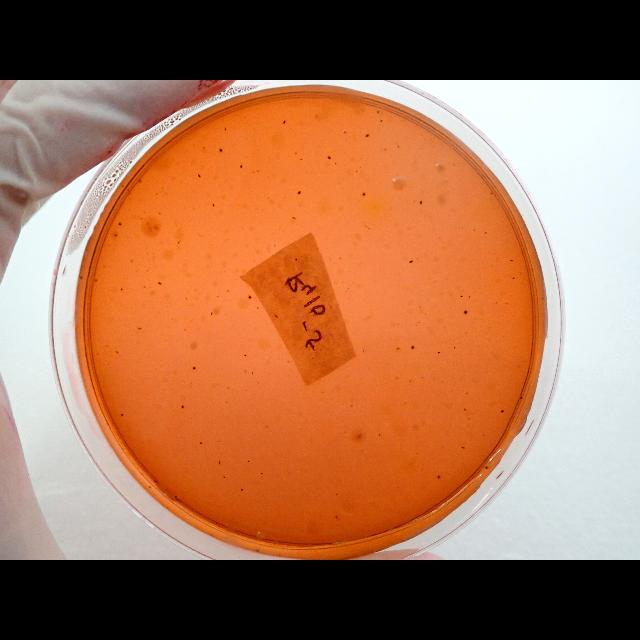colony: (180, 404, 186, 410), (436, 474, 442, 480), (410, 344, 416, 350), (395, 346, 401, 352), (296, 190, 302, 196), (218, 459, 222, 465), (485, 464, 489, 470), (500, 408, 504, 414), (463, 310, 469, 314), (365, 132, 369, 138), (158, 280, 162, 286), (419, 199, 423, 205), (408, 259, 414, 263), (295, 150, 299, 156), (78, 276, 84, 280), (240, 164, 243, 170), (199, 441, 203, 445), (240, 488, 244, 492), (260, 472, 264, 476), (334, 515, 338, 519), (461, 446, 465, 450), (519, 396, 523, 400), (512, 276, 516, 280), (282, 120, 286, 124), (219, 148, 223, 152), (118, 222, 122, 226), (114, 233, 118, 237), (248, 295, 252, 299), (274, 314, 278, 318), (294, 257, 298, 261), (292, 216, 296, 220), (327, 156, 331, 160), (343, 130, 347, 134), (362, 192, 366, 196), (115, 350, 119, 354), (504, 301, 508, 305), (494, 301, 498, 305), (354, 169, 358, 173), (130, 259, 134, 263), (212, 203, 215, 207), (210, 312, 213, 316), (491, 192, 494, 196), (491, 264, 494, 268), (192, 366, 195, 369), (336, 492, 338, 496), (464, 407, 466, 411), (468, 417, 470, 421), (438, 351, 440, 355), (454, 345, 456, 349), (425, 312, 427, 316), (510, 260, 514, 262), (484, 232, 488, 234), (379, 120, 383, 122), (377, 110, 379, 114), (198, 174, 200, 178), (120, 288, 124, 290), (185, 296, 187, 300), (378, 433, 382, 435), (148, 486, 152, 488), (120, 414, 124, 416), (465, 331, 467, 335), (334, 162, 336, 166), (300, 157, 302, 161), (364, 226, 368, 228), (138, 328, 142, 330), (178, 240, 180, 244), (158, 211, 160, 215), (222, 476, 225, 478), (247, 460, 250, 462), (396, 146, 399, 148), (227, 290, 230, 292), (216, 522, 218, 524), (460, 296, 462, 298), (468, 296, 470, 298), (419, 306, 421, 308), (418, 321, 420, 323), (415, 324, 417, 326), (474, 229, 476, 231), (224, 128, 226, 130), (244, 354, 246, 356), (252, 372, 254, 374), (175, 496, 177, 498), (154, 480, 156, 482), (157, 482, 159, 484), (144, 286, 146, 288), (368, 227, 370, 229), (217, 296, 219, 298), (496, 258, 498, 260), (397, 324, 399, 324)
